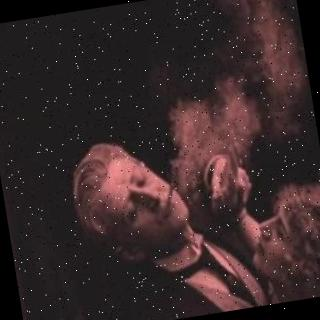smoke: (153, 81, 261, 191)
